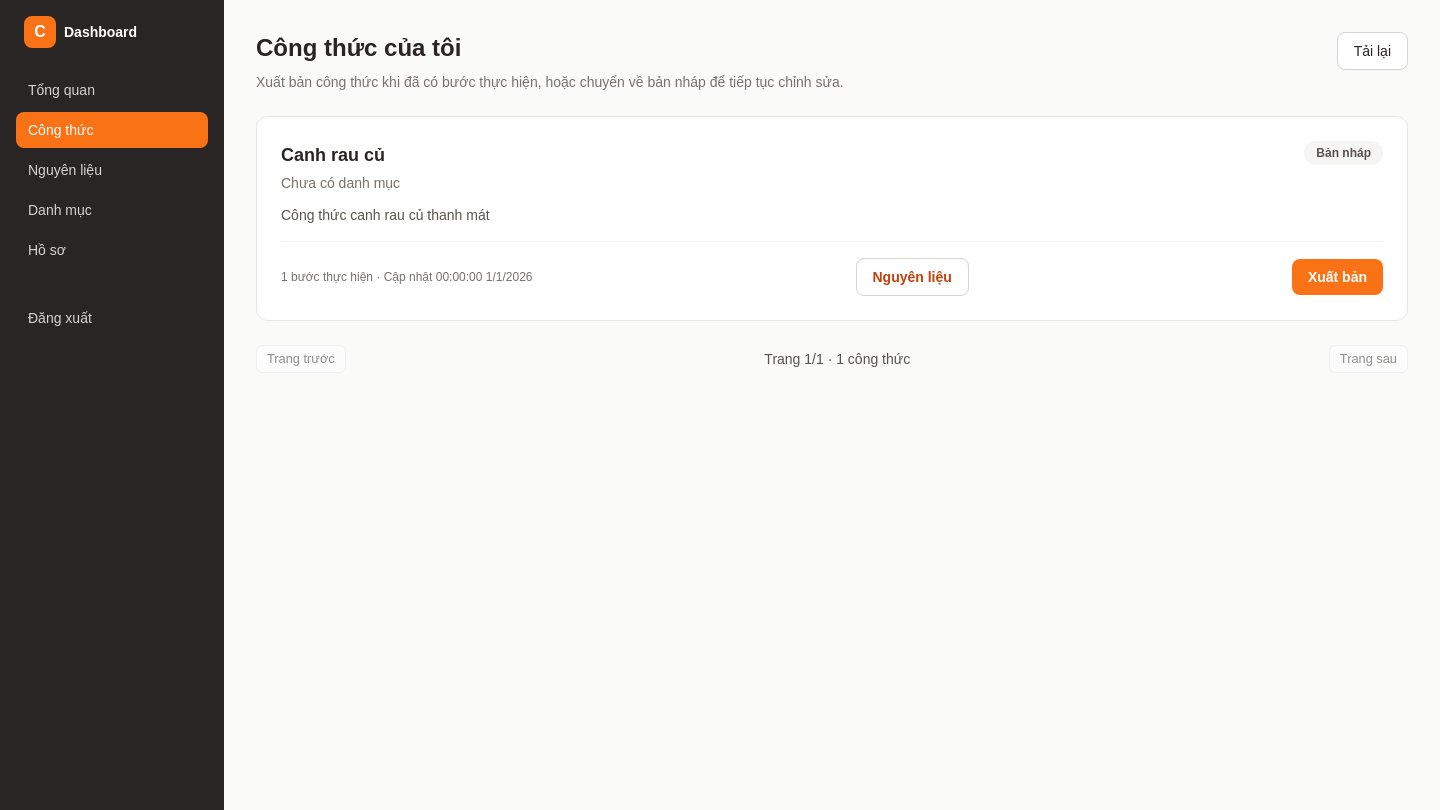
Test: Recipe management through UI and API client › keeps the refreshed session when a publish retry returns a business error
Click the button "Xuất bản". click: (1337, 277)
box: [1292, 259, 1383, 295]
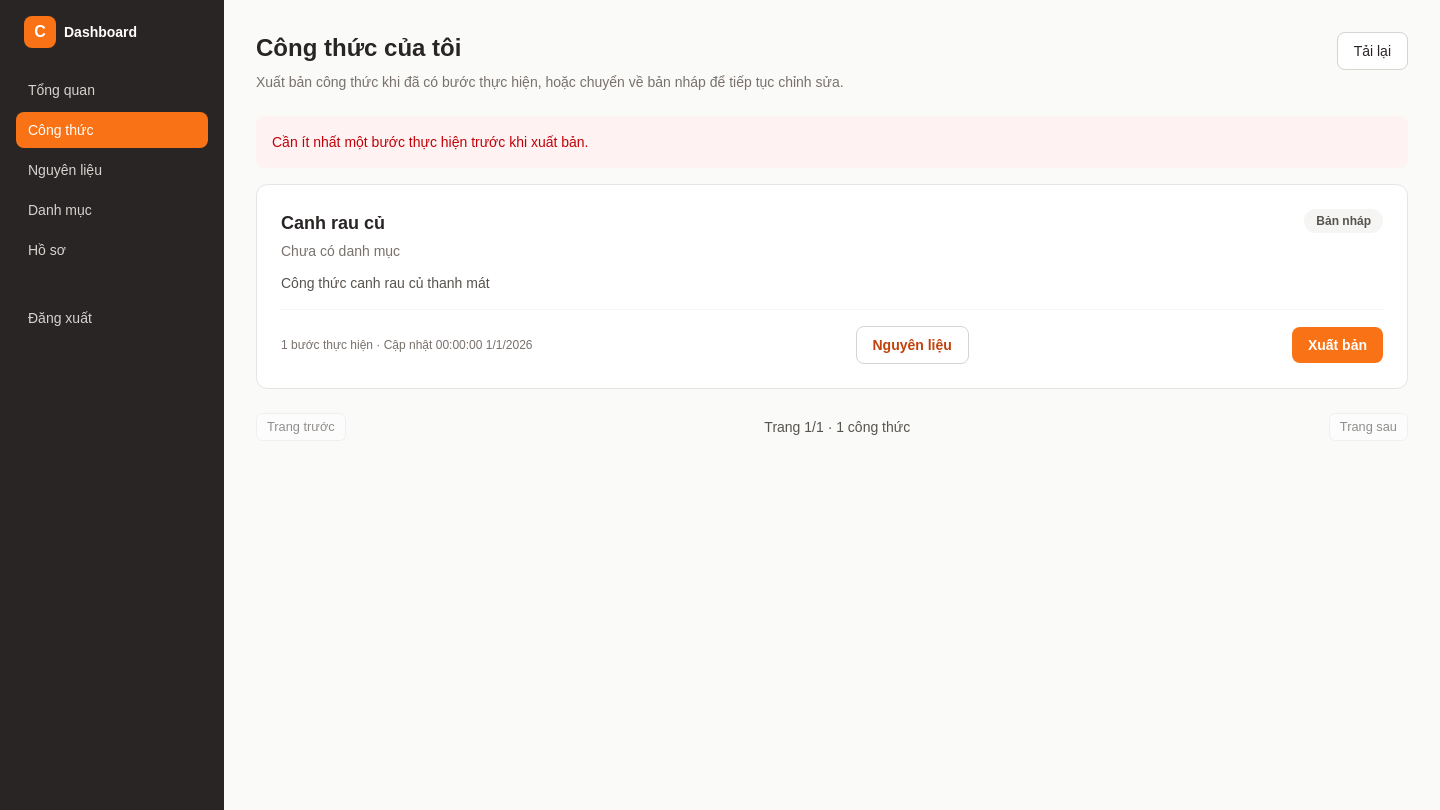
Expected: the heading "Công thức của tôi" is shown, [256, 34, 461, 61]
Now the message shows "Cần ít nhất một bước", box [272, 134, 588, 150]
